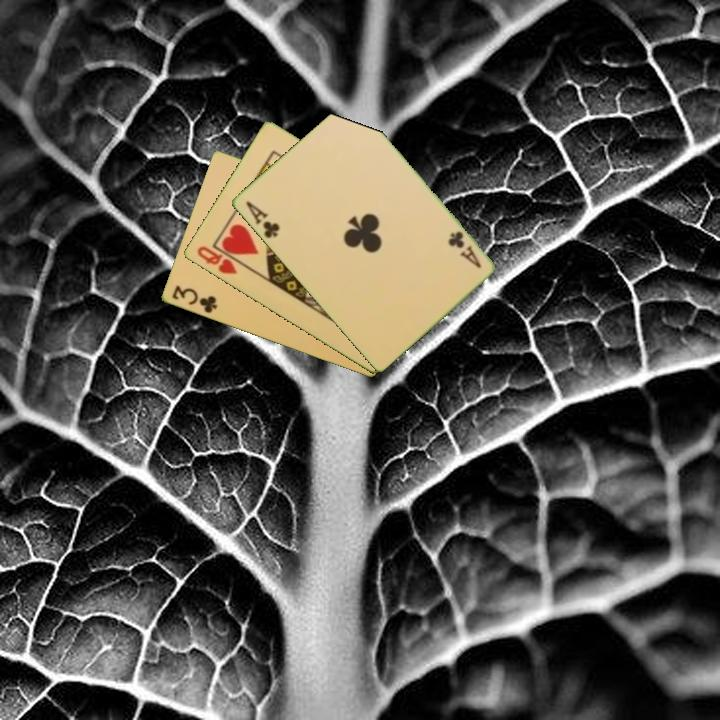3c: (168, 282, 220, 316)
Ac: (242, 197, 282, 241), (444, 227, 484, 271)
Qh: (193, 242, 240, 277)
